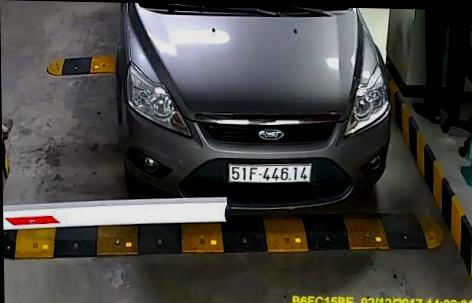License_Plate: (227, 159, 315, 188)
